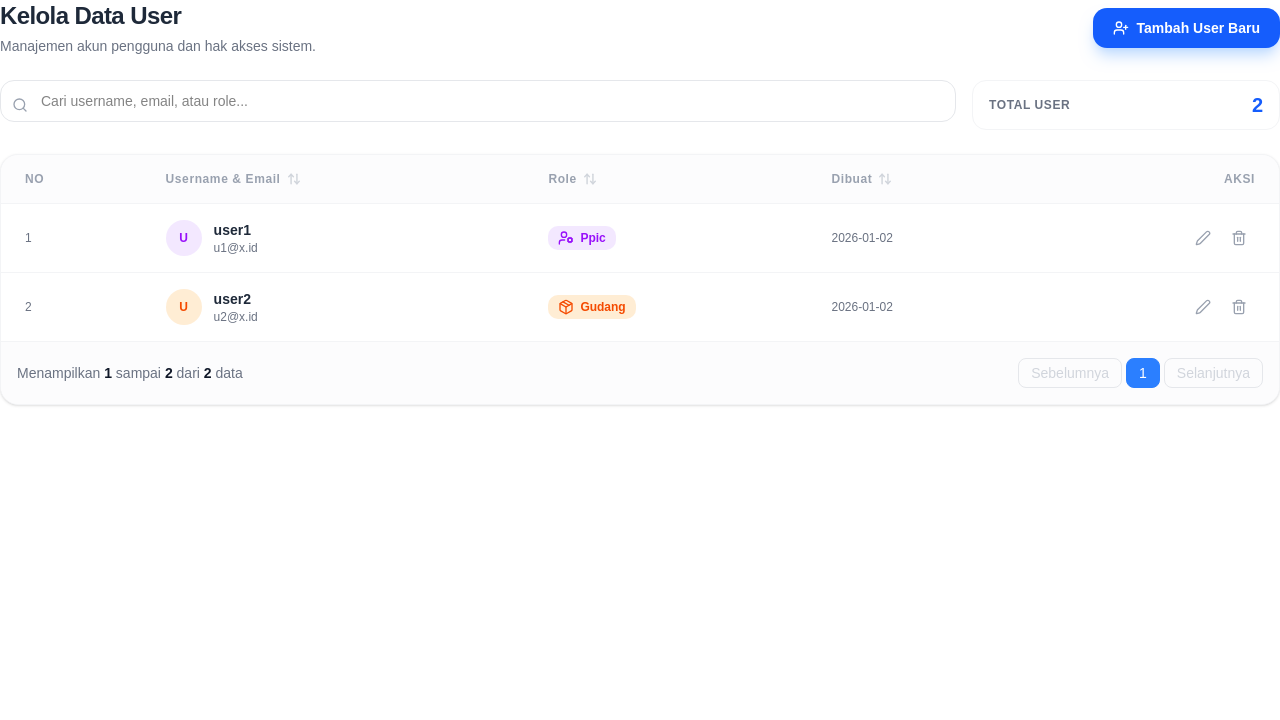
Scenario: Users form › has maxLength username 50, email 191, password 100 and minLength 8 on password
expect the text "user1" is shown: met, box [214,222,251,238]
Click the button "Tambah User Baru". click: (1186, 28)
box: [1092,8,1279,48]
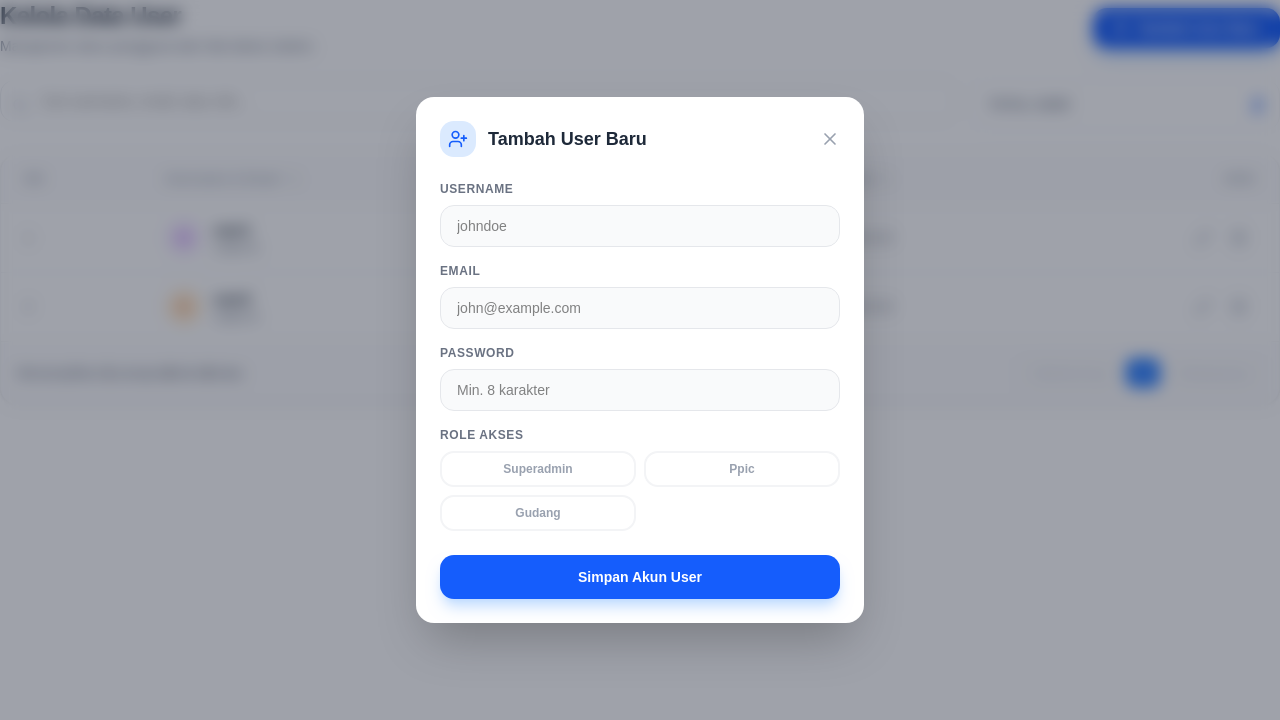
expect the heading "Tambah User Baru" is shown: met, box [488,125,647,153]
expect the button "gudang" is shown: met, box [440,495,636,531]
